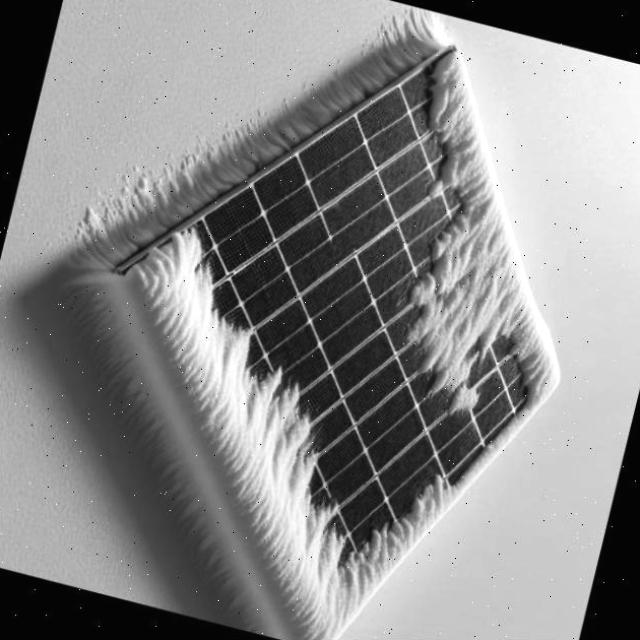Anomaly Solar Panel: (69, 46, 640, 640)
Snow: (67, 45, 640, 640)
